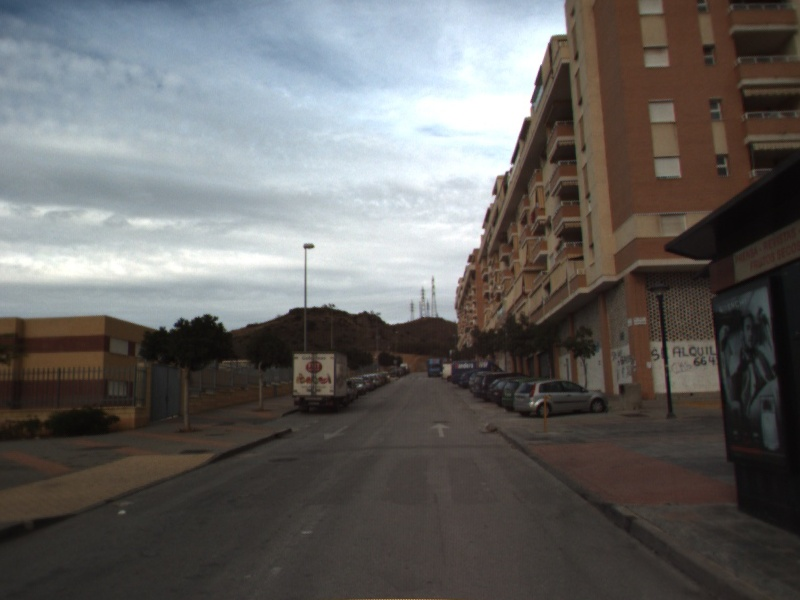STRAIGHT: (428, 421, 453, 439)
